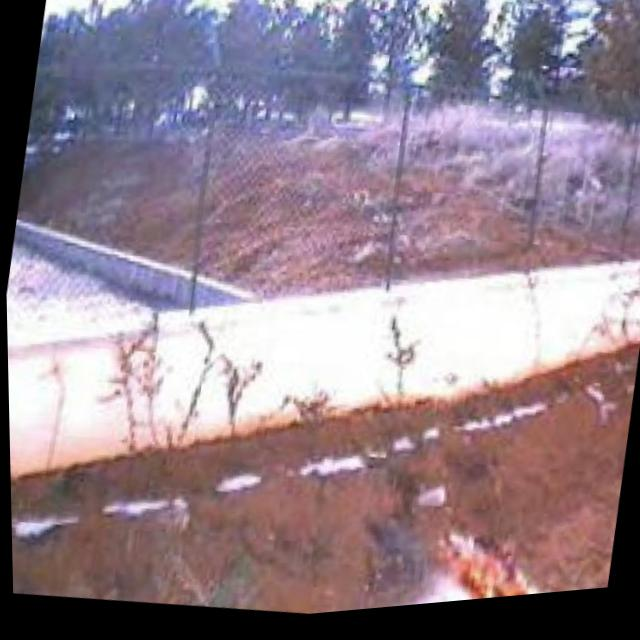Fire: (428, 543, 534, 611)
